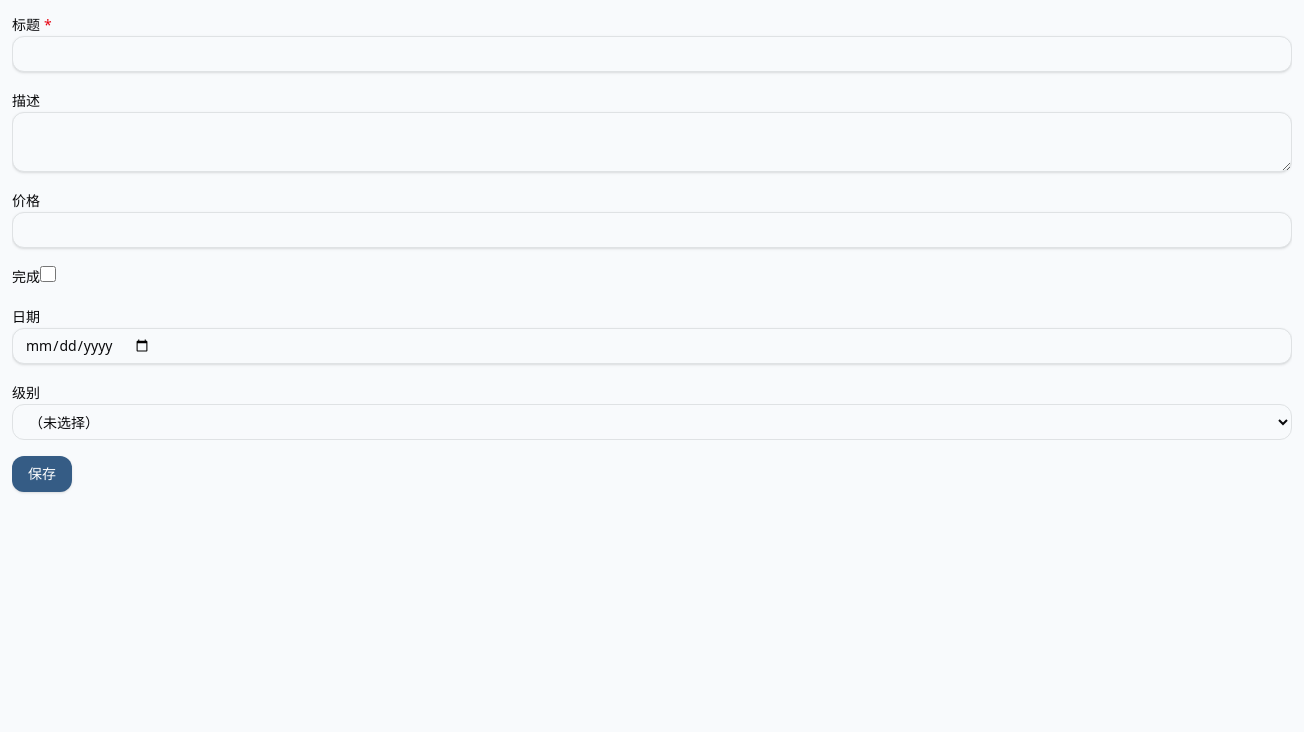
it: RecordForm 动态表单 › 必填缺失时拦截并提示
Click the button "保存". click: click(42, 474)
box: x1=12 y1=456 x2=72 y2=492
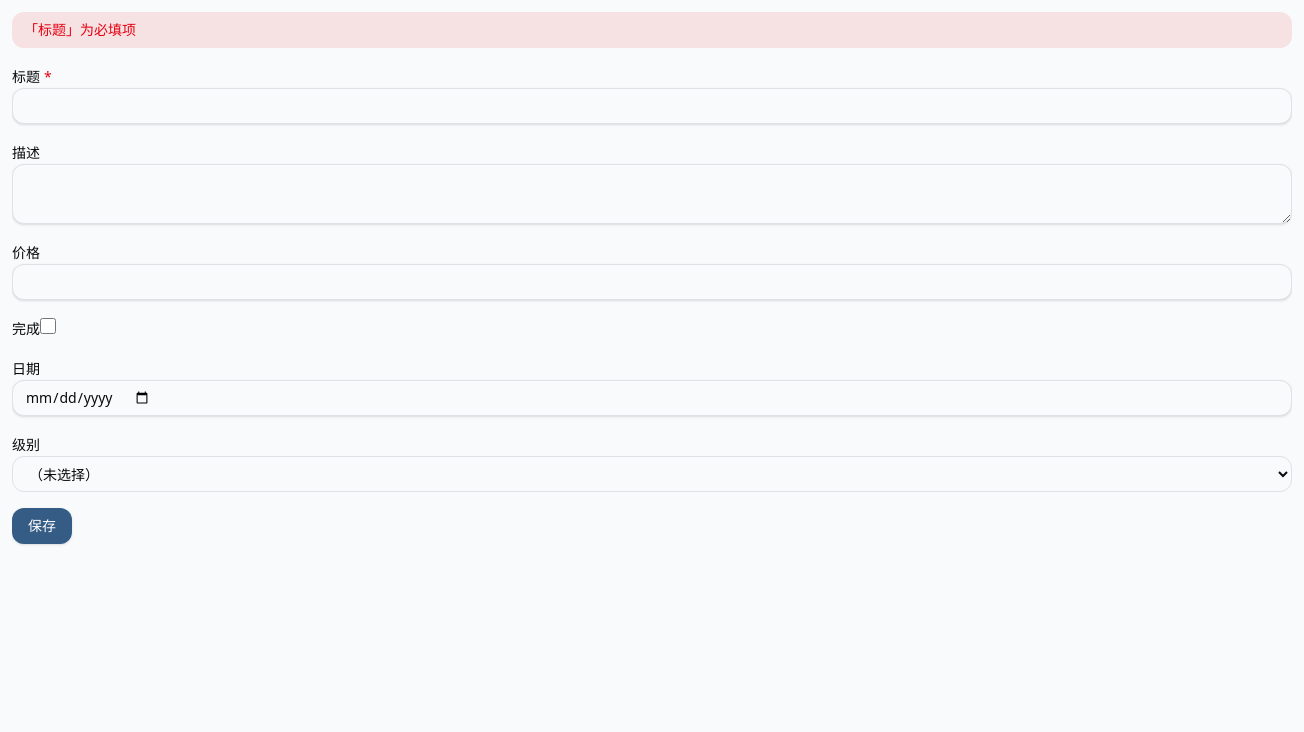
Expected: the message shows "标题", x1=24 y1=20 x2=136 y2=39
